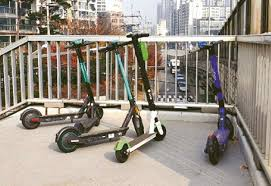kick_board: (21, 39, 103, 127), (189, 38, 234, 166)
kick_body: (43, 113, 81, 120)
kick_handler: (192, 40, 223, 54), (64, 39, 95, 49), (98, 41, 133, 49), (125, 31, 150, 39)
kick_neck: (210, 57, 224, 114), (79, 57, 94, 99)
kick_wheel: (56, 127, 79, 152), (20, 109, 40, 129), (115, 142, 131, 162), (207, 139, 219, 165), (131, 116, 144, 134), (155, 125, 168, 140)
